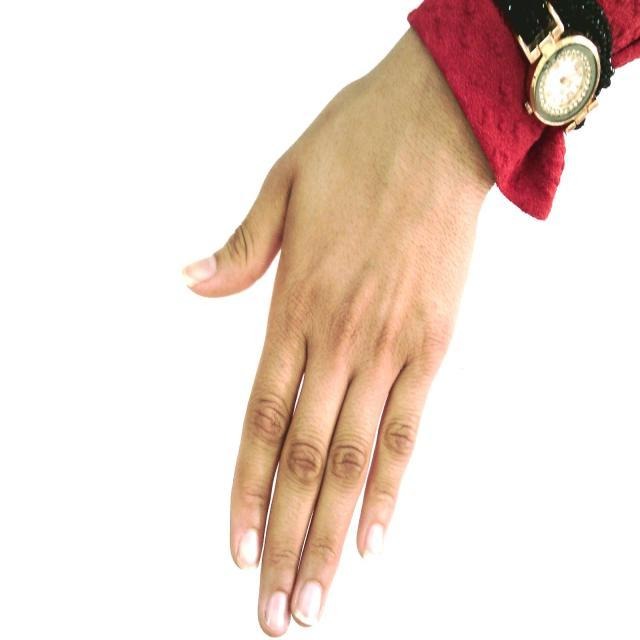Fingernail: (294, 582, 322, 625), (181, 258, 215, 287), (266, 592, 288, 632), (238, 530, 259, 571), (363, 524, 384, 560)
